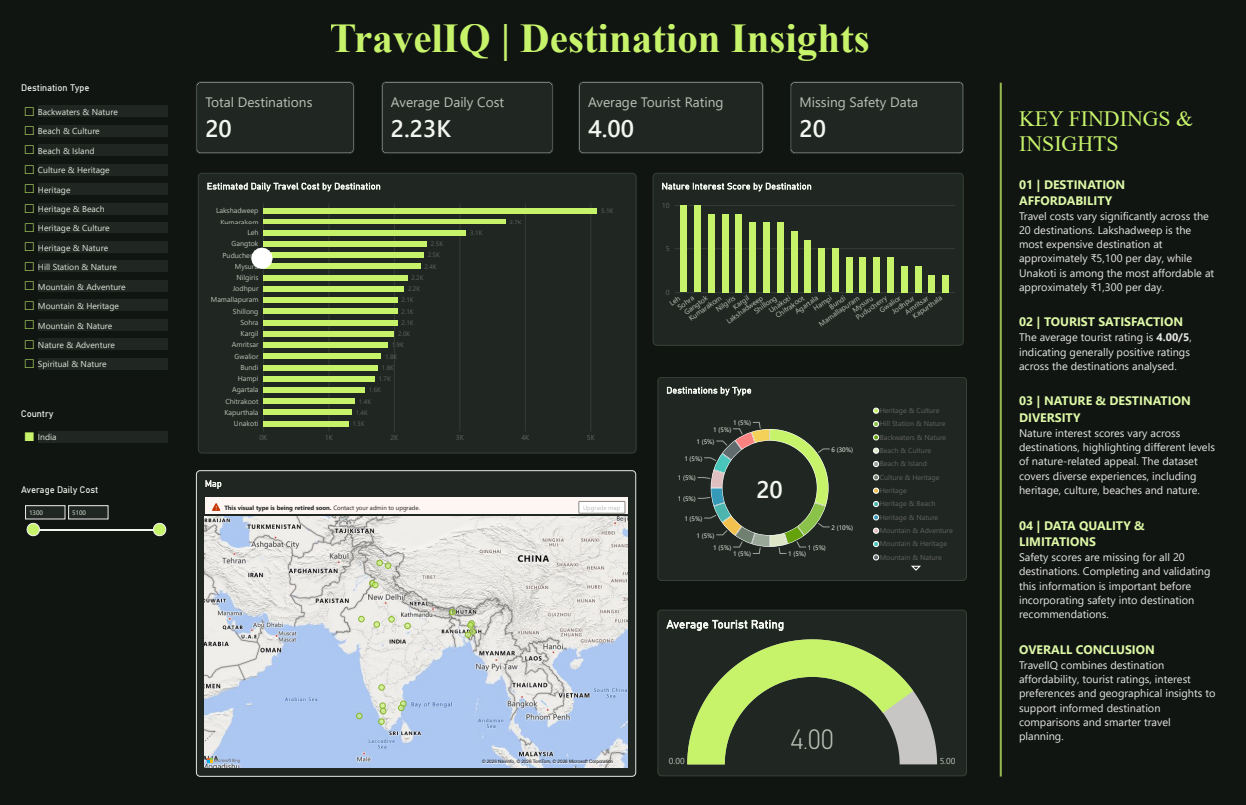

This screenshot's page, from the dashboard's own definition file:
{"tool":"powerbi","page":{"name":"Page 1","canvas":[2400,1600],"ordinal":0},"visuals":[{"type":"cardVisual","fields":{"Data":["destinations_enriched.Total Destinations"]},"box":[384.8,160,308,140],"z":0},{"type":"cardVisual","fields":{"Data":["destinations_enriched.Average Daily Cost"]},"box":[746.8,160,334,140],"z":1000},{"type":"cardVisual","fields":{"Data":["destinations_enriched.Average Tourist Rating"]},"box":[1130.8,160,360,140],"z":2000},{"type":"cardVisual","fields":{"Data":["destinations_enriched.Missing Safety Data"]},"box":[1542.8,160,338,140],"z":3000},{"type":"clusteredBarChart","title":"Estimated Daily Travel Cost by Destination","fields":{"Category":["destinations_enriched.destination_name"],"Y":["Sum(destinations_enriched.avg_daily_cost)"]},"box":[388,336.9,854.5,548.5],"z":4000},{"type":"clusteredColumnChart","title":"Nature Interest Score by Destination","fields":{"Category":["destinations_enriched.destination_name"],"Y":["Avg(destinations_enriched.nature_score)"]},"box":[1275.8,336.9,606,338],"z":5000},{"type":"donutChart","title":"Destinations by Type","fields":{"Category":["destinations_enriched.destination_type"],"Y":["CountNonNull(destinations_enriched.destination_name)"]},"box":[1284.9,736.9,603,397],"z":6000},{"type":"slicer","title":"Destination Type","fields":{"Values":["destinations_enriched.destination_type"]},"box":[42.5,161.2,286,588],"z":7000},{"type":"slicer","title":"Country","fields":{"Values":["destinations_enriched.country"]},"box":[42.5,797.5,286,120],"z":8000},{"type":"slicer","title":"Average Daily Cost","fields":{"Values":["destinations_enriched.avg_daily_cost"]},"box":[42.5,946,286,138],"z":9000},{"type":"textbox","box":[530,30,1283.3,110],"z":10000},{"type":"gauge","fields":{"Y":["destinations_enriched.Average Tourist Rating"]},"box":[1284.9,1191.5,603,324.2],"z":11000},{"type":"map","title":"Map","fields":{"Category":["destinations_enriched.destination_name"],"X":["Avg(destinations_enriched.longitude)"],"Y":["Avg(destinations_enriched.latitude)"]},"box":[384.9,918.8,857.6,597],"z":11001},{"type":"shape","box":[1812.1,160.6,284.8,1354.5],"z":11002},{"type":"textbox","box":[1990,206.7,383.3,1310],"z":11003}]}

Visuals, with their boxes on the page's 2400x1600 design canvas (x1, y1, x2, y2). These are canvas units, not pixel positions in the 1246x805 screenshot, which may show the page scaled, cropped or inside an application window:
cardVisual - destinations_enriched.Total Destinations: (385,160,693,300)
cardVisual - destinations_enriched.Average Daily Cost: (747,160,1081,300)
cardVisual - destinations_enriched.Average Tourist Rating: (1131,160,1491,300)
cardVisual - destinations_enriched.Missing Safety Data: (1543,160,1881,300)
"Estimated Daily Travel Cost by Destination" clusteredBarChart: (388,337,1242,885)
"Nature Interest Score by Destination" clusteredColumnChart: (1276,337,1882,675)
"Destinations by Type" donutChart: (1285,737,1888,1134)
"Destination Type" slicer: (42,161,328,749)
"Country" slicer: (42,798,328,918)
"Average Daily Cost" slicer: (42,946,328,1084)
textbox: (530,30,1813,140)
gauge - destinations_enriched.Average Tourist Rating: (1285,1192,1888,1516)
"Map" map: (385,919,1242,1516)
shape: (1812,161,2097,1515)
textbox: (1990,207,2373,1517)
